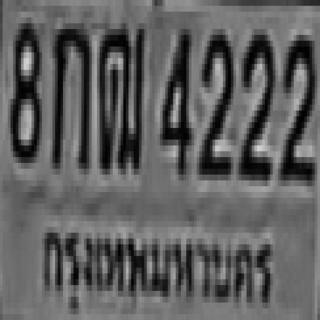A01: (50, 18, 89, 163)
A18: (97, 17, 144, 169)
N02: (277, 26, 313, 177), (197, 26, 231, 172), (238, 26, 272, 172)
N04: (160, 23, 189, 169)
N08: (8, 17, 39, 157)
P04: (38, 214, 280, 313)
